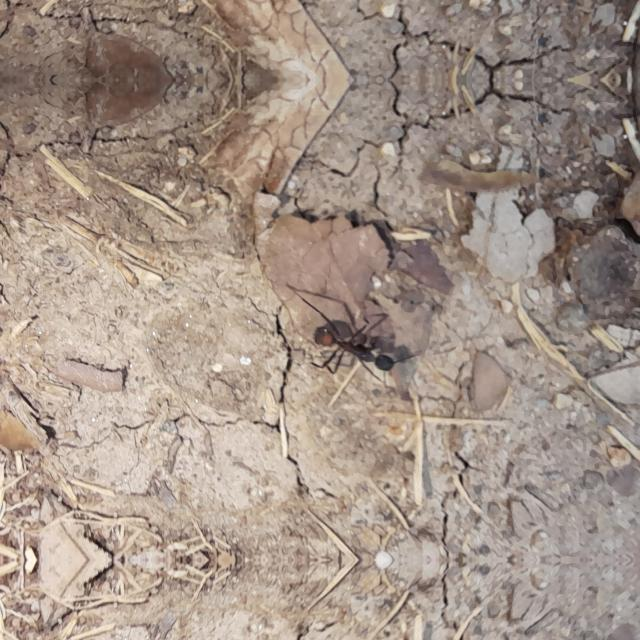Camponotus: (302, 314, 408, 384)
